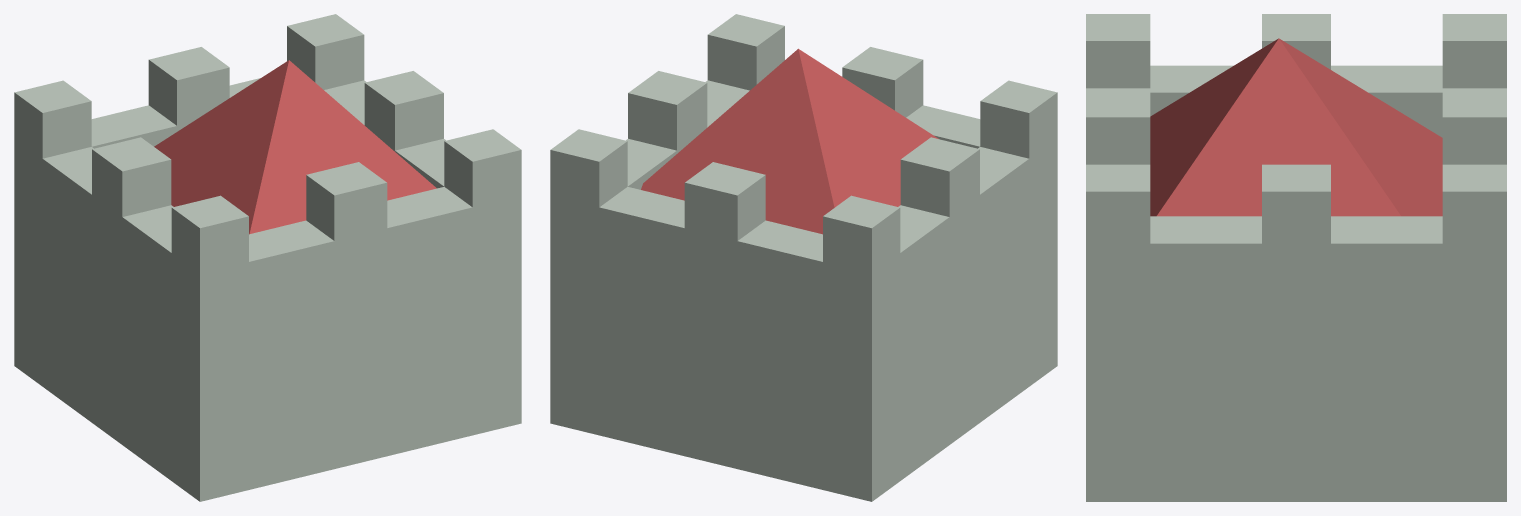
File: tile_055.obj
The picture shows the model from 3 angles, left to right: view 1: azimuth 30°, elevation 25°; view 2: azimuth 150°, elevation 25°; view 3: azimuth 270°, elevation 25°; orthographic projection. The views are drawn at different scales.
Visible parts, largest first — view 1: tile_055, Group; view 2: tile_055, Group; view 3: tile_055, Group.
Boxes of the visible parts, x1,y1,x2,y2 form: tile_055: (14,14,521,501); Group: (154,60,436,234); tile_055: (550,14,1057,501); Group: (641,48,938,234); tile_055: (1086,14,1506,501); Group: (1150,38,1442,216).
Size of the model in its own units: 0.5901 by 0.5914 by 0.5901.
